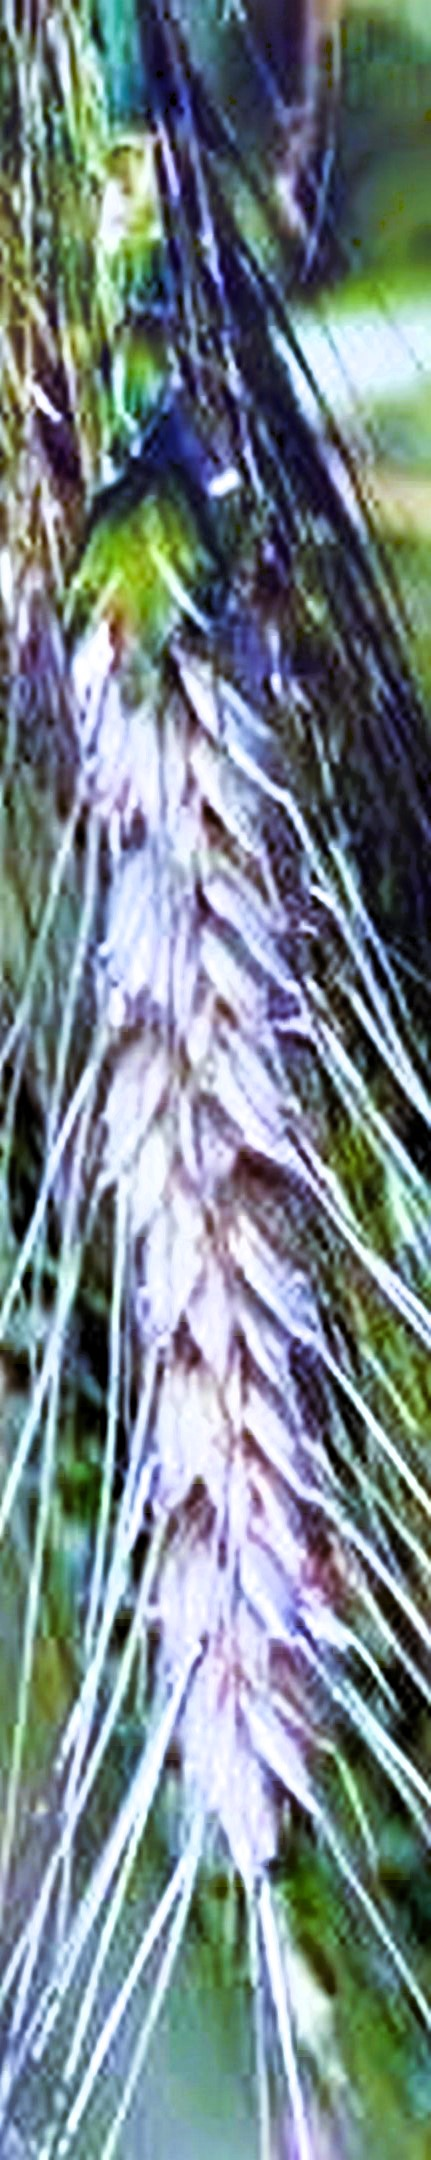Wheat scab: (39, 482, 370, 1845)
